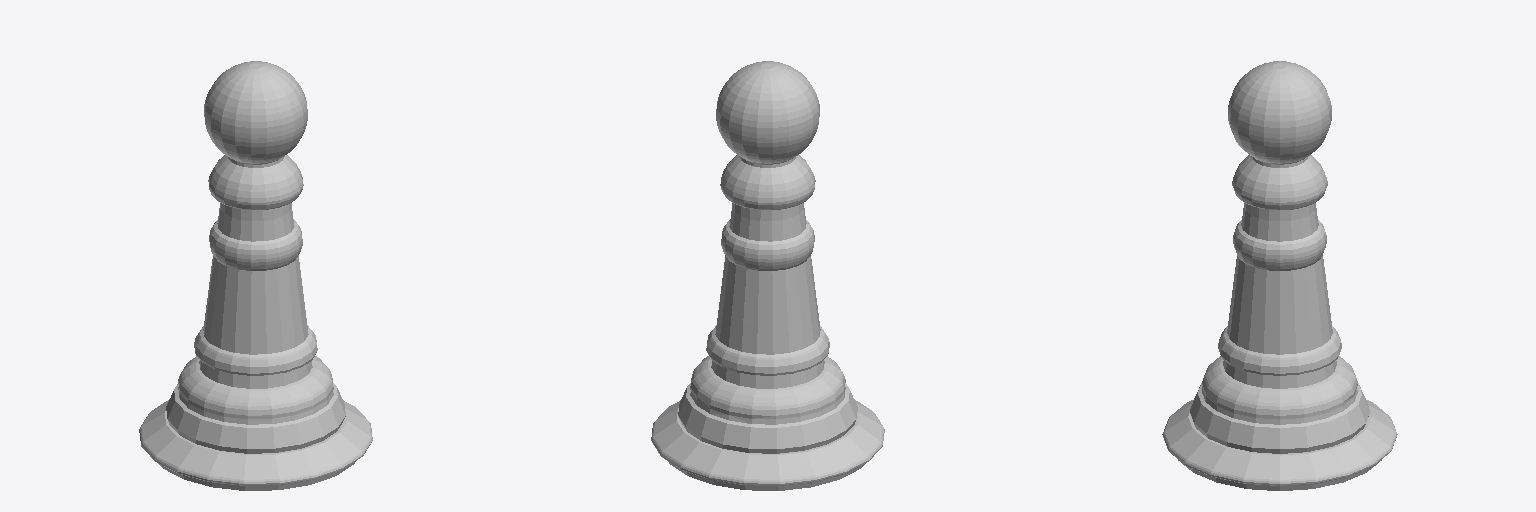
3 views of the same model, side by side, from view 1: azimuth 30°, elevation 25°; view 2: azimuth 150°, elevation 25°; view 3: azimuth 270°, elevation 25° (orthographic).
Parts seen in each view (by area): view 1: pawn; view 2: pawn; view 3: pawn.
Boxes of the visible parts, x1,y1,x2,y2 form: pawn: [139, 61, 372, 490]; pawn: [651, 61, 884, 490]; pawn: [1162, 61, 1397, 490].
Size of the model in its own units: 9.83 by 17.53 by 9.83.